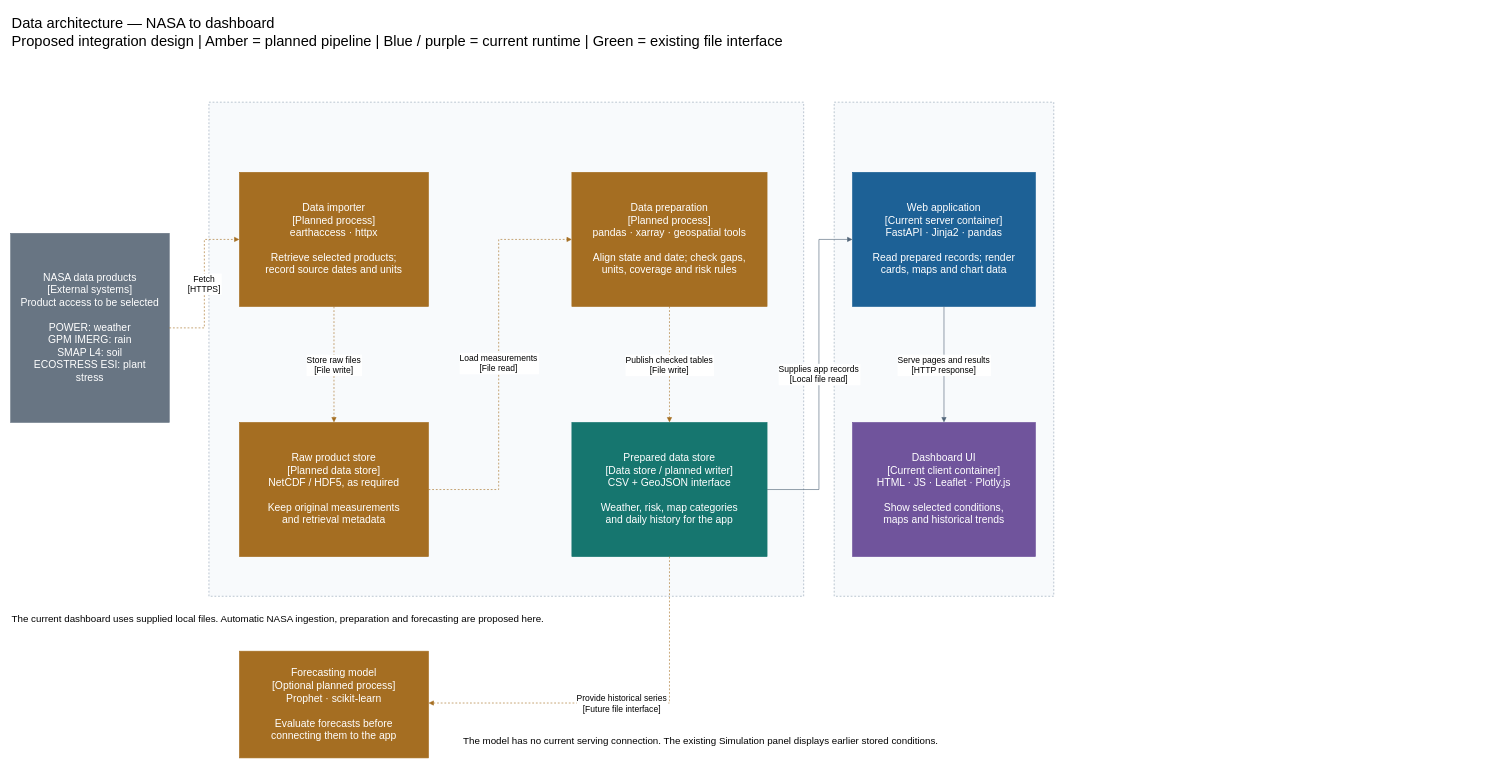
The diagram is 1504 pixels wide and 771 high, and some of its shapes have lost their labels. Here are the shapes that lost their labels. From the top down, the box of each, then its label:
(208, 102, 804, 596): Data preparation Proposed offline / batch pipeline
(834, 102, 1054, 596): Serving layer Current runtime
